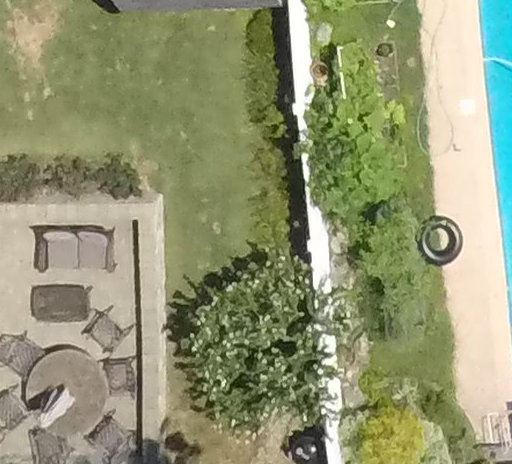flower pot: (307, 58, 333, 84), (374, 42, 396, 60)
trash bin: (284, 431, 324, 464)
